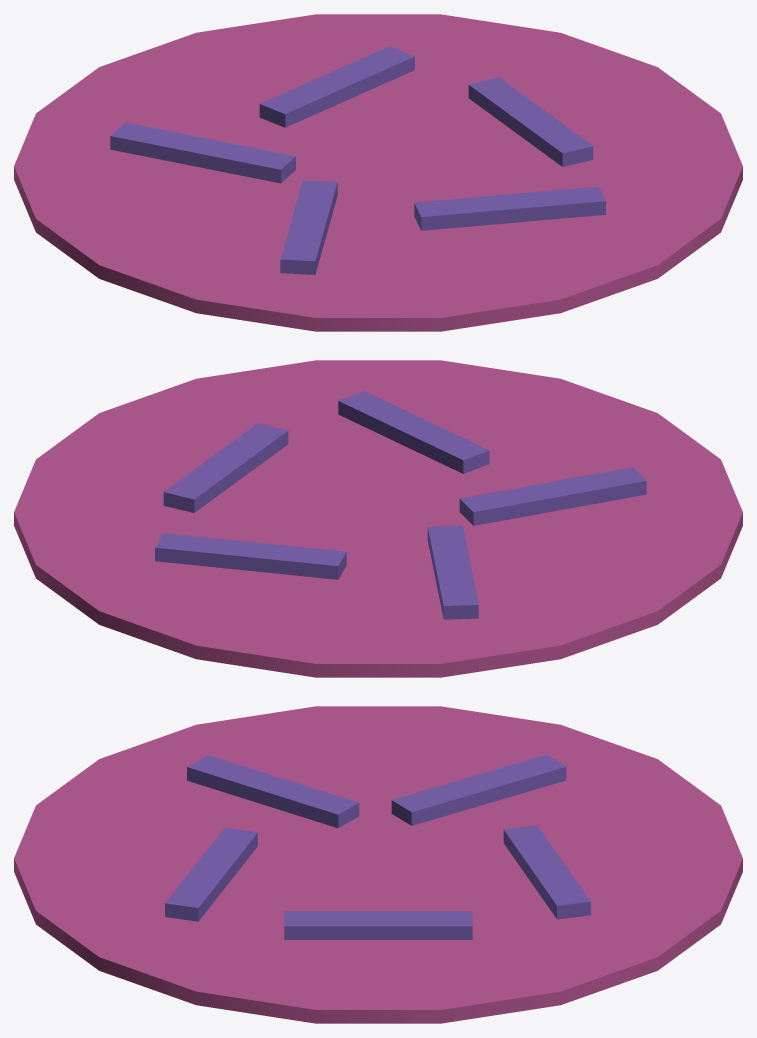
The model's file is ground-decal.glb.
3 views of the same model, one above another, from view 1: azimuth 30°, elevation 25°; view 2: azimuth 150°, elevation 25°; view 3: azimuth 270°, elevation 25° (orthographic).
Visible parts, largest first — view 1: decal_plate, rune_1, rune_3, rune_4, rune_0, rune_2; view 2: decal_plate, rune_4, rune_2, rune_1, rune_0, rune_3; view 3: decal_plate, rune_0, rune_3, rune_2, rune_1, rune_4.
Part boxes in pixels (box(x1,y1,x2,y2)): decal_plate: box(14, 14, 742, 331); rune_1: box(414, 186, 605, 230); rune_3: box(110, 122, 295, 183); rune_4: box(259, 46, 414, 127); rune_0: box(468, 77, 593, 166); rune_2: box(280, 180, 337, 274); decal_plate: box(14, 360, 742, 677); rune_4: box(155, 533, 346, 579); rune_2: box(459, 467, 646, 525); rune_1: box(338, 391, 489, 473); rune_0: box(163, 423, 288, 512); rune_3: box(427, 525, 478, 619); decal_plate: box(14, 706, 742, 1023); rune_0: box(284, 911, 472, 939); rune_3: box(391, 754, 566, 825); rune_2: box(187, 755, 359, 828); rune_1: box(165, 828, 257, 921); rune_4: box(503, 825, 590, 919).
Size of what is drawn, in the model's own units: 2.86 by 0.12 by 2.9.
